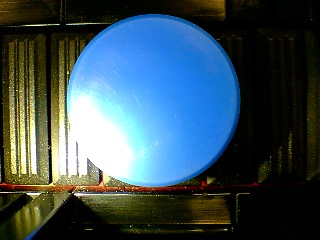BLANK: (68, 14, 241, 188)
